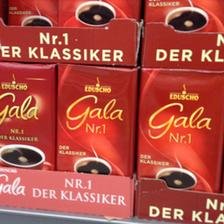Kaffee: (136, 65, 220, 191), (54, 61, 138, 177), (0, 60, 54, 168)
